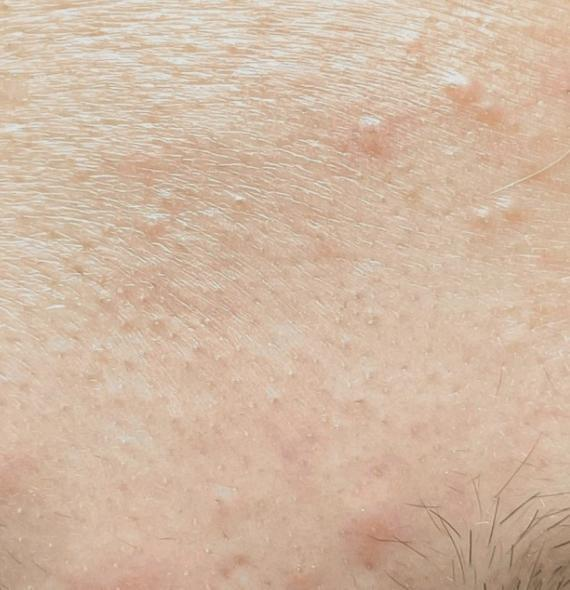blackhead: (205, 487, 256, 528)
whitehead: (353, 106, 416, 173), (128, 195, 179, 244), (437, 61, 499, 101), (472, 192, 539, 213)
